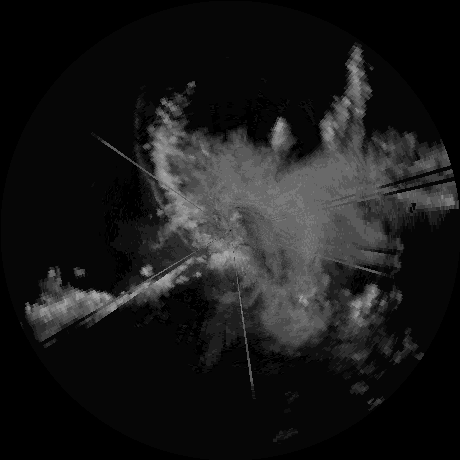frontgust: (129, 127, 165, 206), (177, 233, 193, 249)
